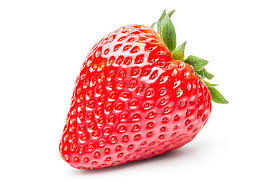strawberry: (58, 21, 217, 173)
